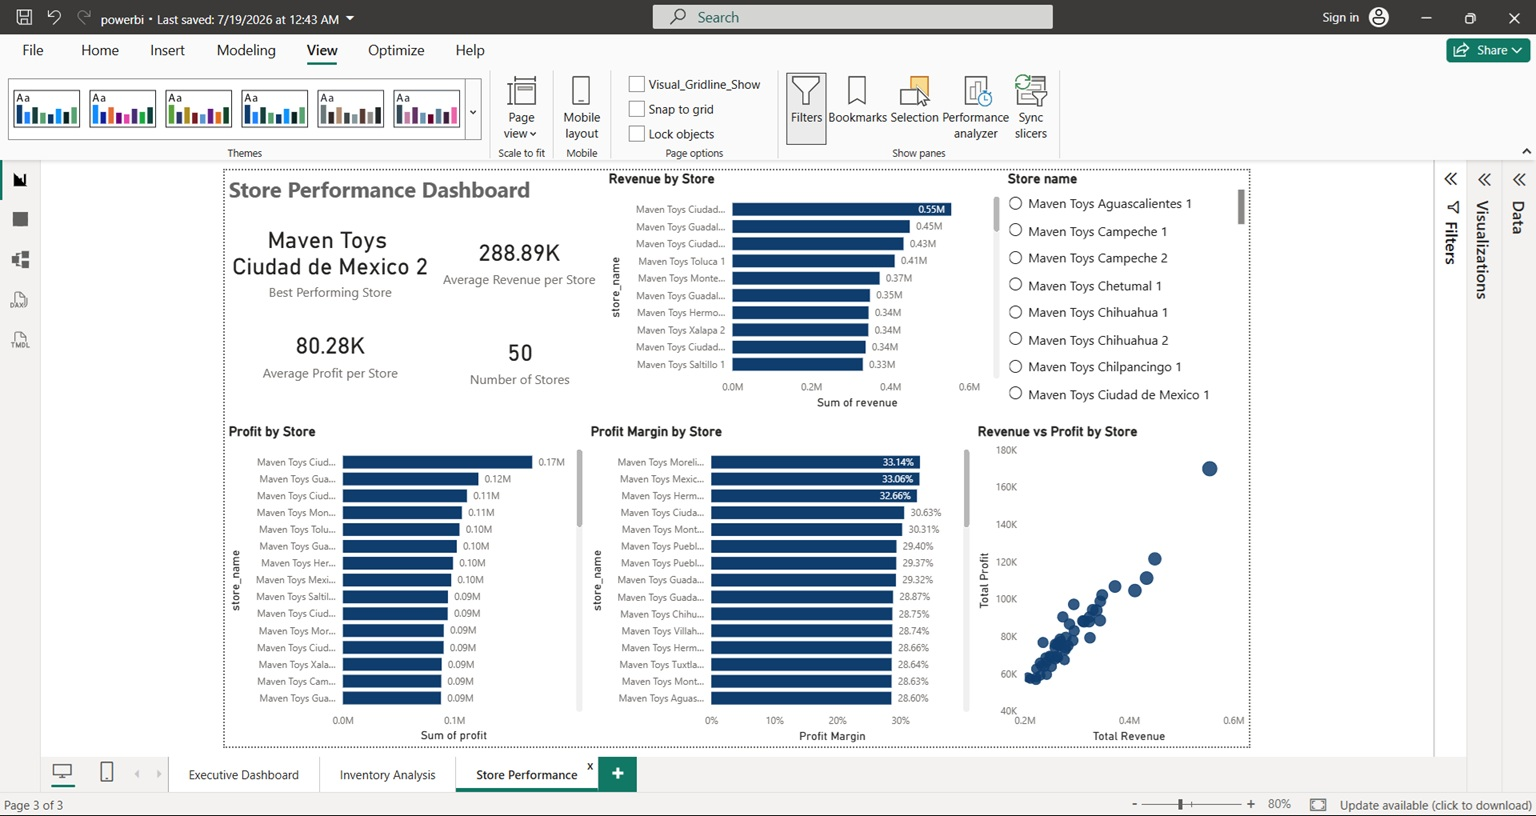

The page's visual inventory and layout, read from the dashboard file:
{"tool":"powerbi","page":{"name":"Store Performance","canvas":[1280,720],"ordinal":2},"visuals":[{"type":"card","fields":{"Values":["00_Measures.Average Revenue per Store"]},"box":[264.1,48.9,209.1,126],"z":0},{"type":"card","fields":{"Values":["00_Measures.Average Profit per Store"]},"box":[0,168.8,264.1,118.6],"z":1000},{"type":"card","fields":{"Values":["00_Measures.Best Performing Store"]},"box":[0,55,264.1,113.7],"z":2000},{"type":"card","fields":{"Values":["00_Measures.Number of Stores"]},"box":[264.1,174.9,210.3,123.5],"z":3000},{"type":"barChart","title":"Revenue by Store","fields":{"Y":["Sum(public vw_sales_analysis.revenue)"],"Category":["public vw_sales_analysis.store_name"]},"box":[474.5,0,498.9,303.3],"z":4000},{"type":"barChart","title":"Profit by Store","fields":{"Y":["Sum(public vw_sales_analysis.profit)"],"Category":["public vw_sales_analysis.store_name"]},"box":[0,316.7,452.4,403.5],"z":5000},{"type":"barChart","title":"Profit Margin by Store","fields":{"Y":["00_Measures.Profit Margin"],"Category":["public vw_sales_analysis.store_name"]},"box":[452.5,316.2,483.8,403.8],"z":6000},{"type":"scatterChart","title":"Revenue vs Profit by Store","fields":{"X":["Sum(public vw_store_kpis.total_revenue)"],"Y":["Sum(public vw_store_kpis.total_profit)"],"Category":["public vw_store_kpis.store_name"],"Size":["Sum(public vw_store_kpis.total_units_sold)"]},"box":[936.2,316.2,343.8,403.8],"z":7000},{"type":"listSlicer","title":"Store name","fields":{"Values":["public vw_sales_analysis.store_name"]},"box":[973.8,0,306.2,303.8],"z":8000},{"type":"textbox","box":[0,0,452.4,45.2],"z":9000}]}

Visuals, with their boxes on the page's 1280x720 design canvas (x1, y1, x2, y2). These are canvas units, not pixel positions in the 1536x816 screenshot, which may show the page scaled, cropped or inside an application window:
card - 00_Measures.Average Revenue per Store: left=264, top=49, right=473, bottom=175
card - 00_Measures.Average Profit per Store: left=0, top=169, right=264, bottom=287
card - 00_Measures.Best Performing Store: left=0, top=55, right=264, bottom=169
card - 00_Measures.Number of Stores: left=264, top=175, right=474, bottom=298
"Revenue by Store" barChart: left=474, top=0, right=973, bottom=303
"Profit by Store" barChart: left=0, top=317, right=452, bottom=720
"Profit Margin by Store" barChart: left=452, top=316, right=936, bottom=720
"Revenue vs Profit by Store" scatterChart: left=936, top=316, right=1280, bottom=720
"Store name" listSlicer: left=974, top=0, right=1280, bottom=304
textbox: left=0, top=0, right=452, bottom=45
